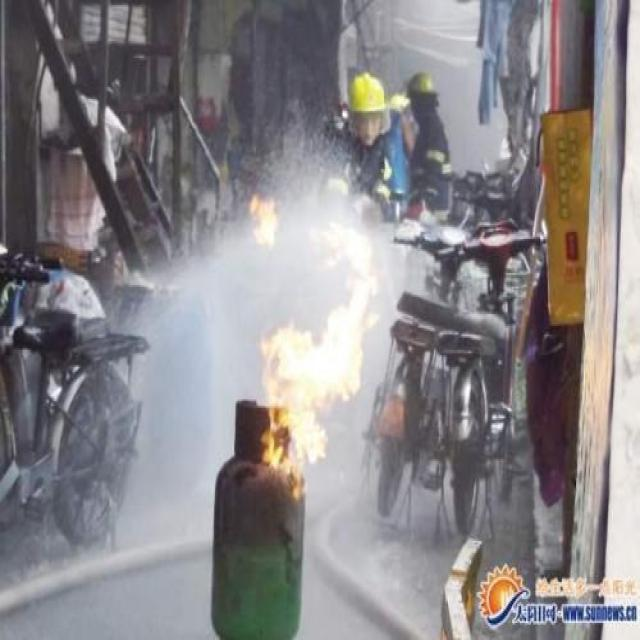fire: (248, 211, 379, 495), (235, 186, 283, 247)
other: (331, 50, 427, 124), (372, 152, 397, 194)
